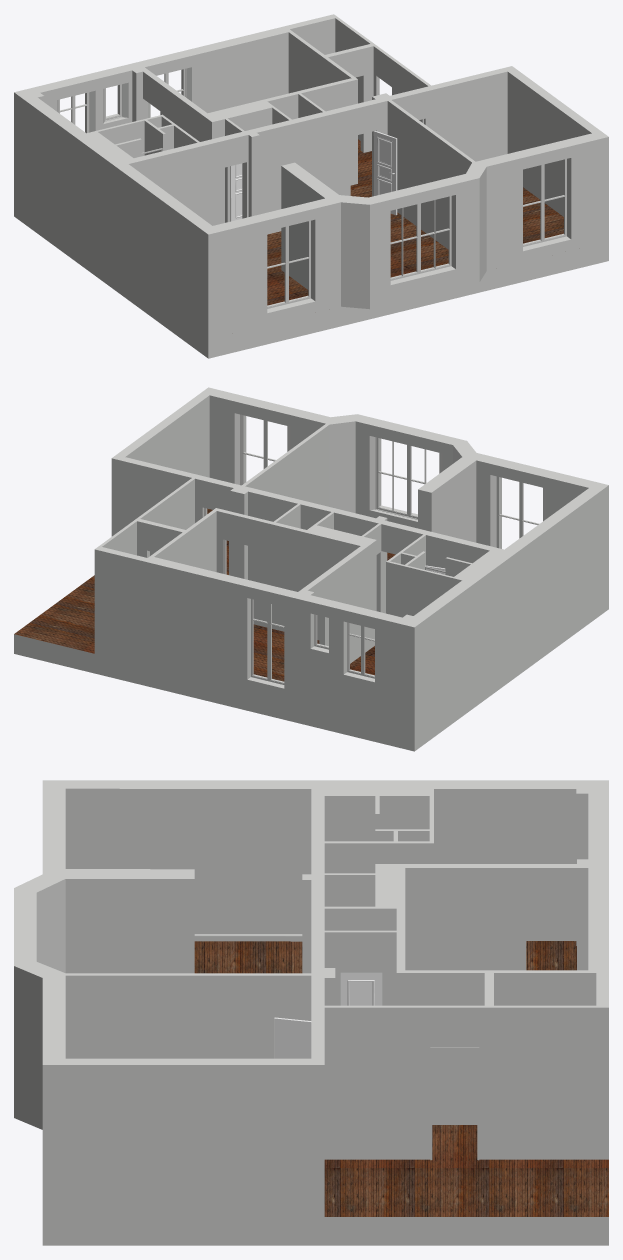
File: scaled-transformed.glb
The picture shows the model from 3 angles, top to bottom: view 1: azimuth 30°, elevation 25°; view 2: azimuth 150°, elevation 25°; view 3: azimuth 270°, elevation 25°; orthographic projection. The views are drawn at different scales.
Parts seen in each view (by area): view 1: Material2.016, Material2.060, Material2.057; view 2: Material2.016, Material2.060; view 3: Material2.016, Material2.060, Material2.057.
Boxes of the visible parts, x1,y1,x2,y2 form: Material2.016: (14,14,608,358); Material2.060: (267,139,563,305); Material2.057: (230,131,397,221); Material2.016: (14,387,608,751); Material2.060: (14,508,395,681); Material2.016: (14,780,608,1245); Material2.060: (194,941,608,1216); Material2.057: (274,972,382,1058).
Size of the model in its own units: 12.06 by 3.57 by 10.66.
Materials: 4 (3 with a texture image).
